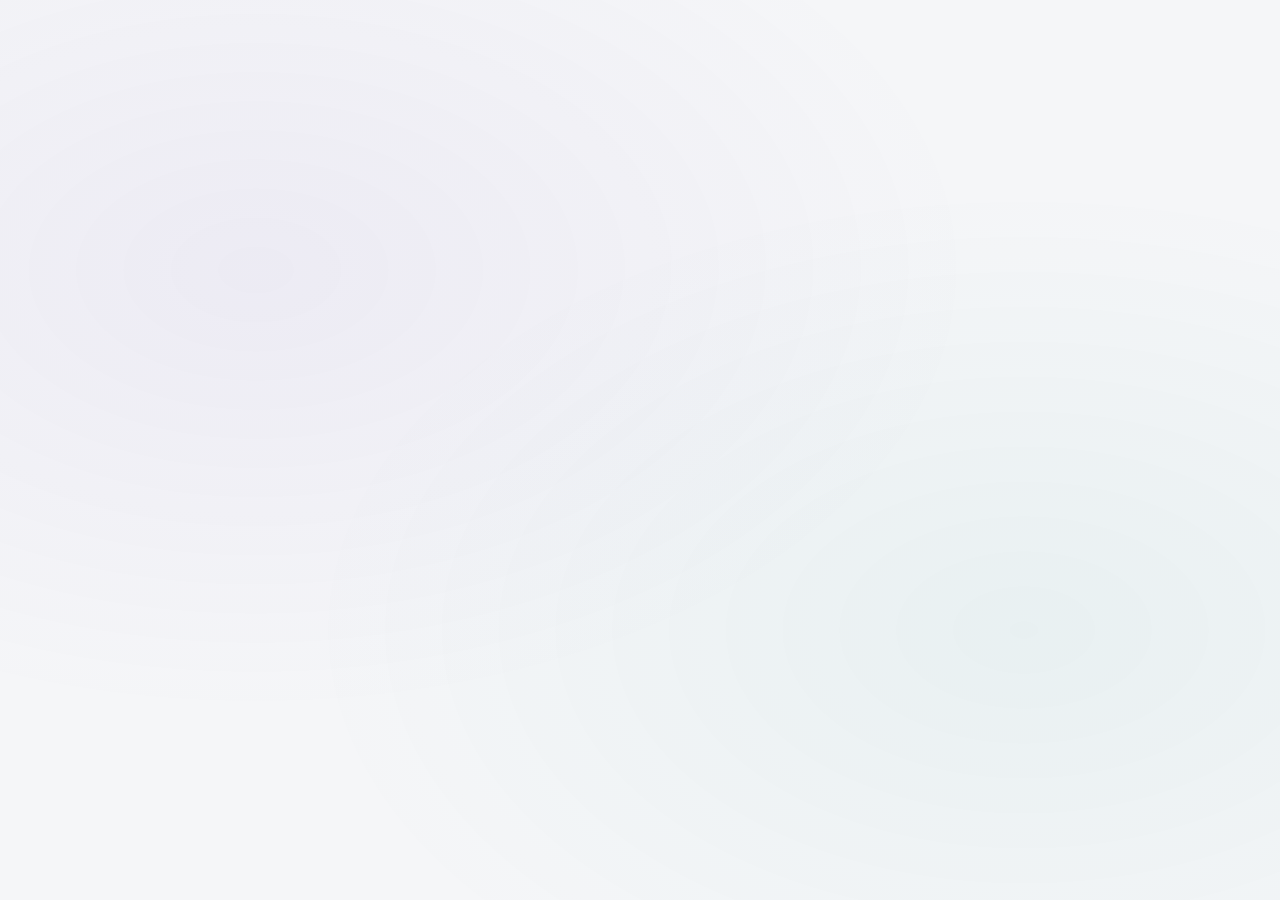
Test: CommandPalette › filters commands as you type
Press k
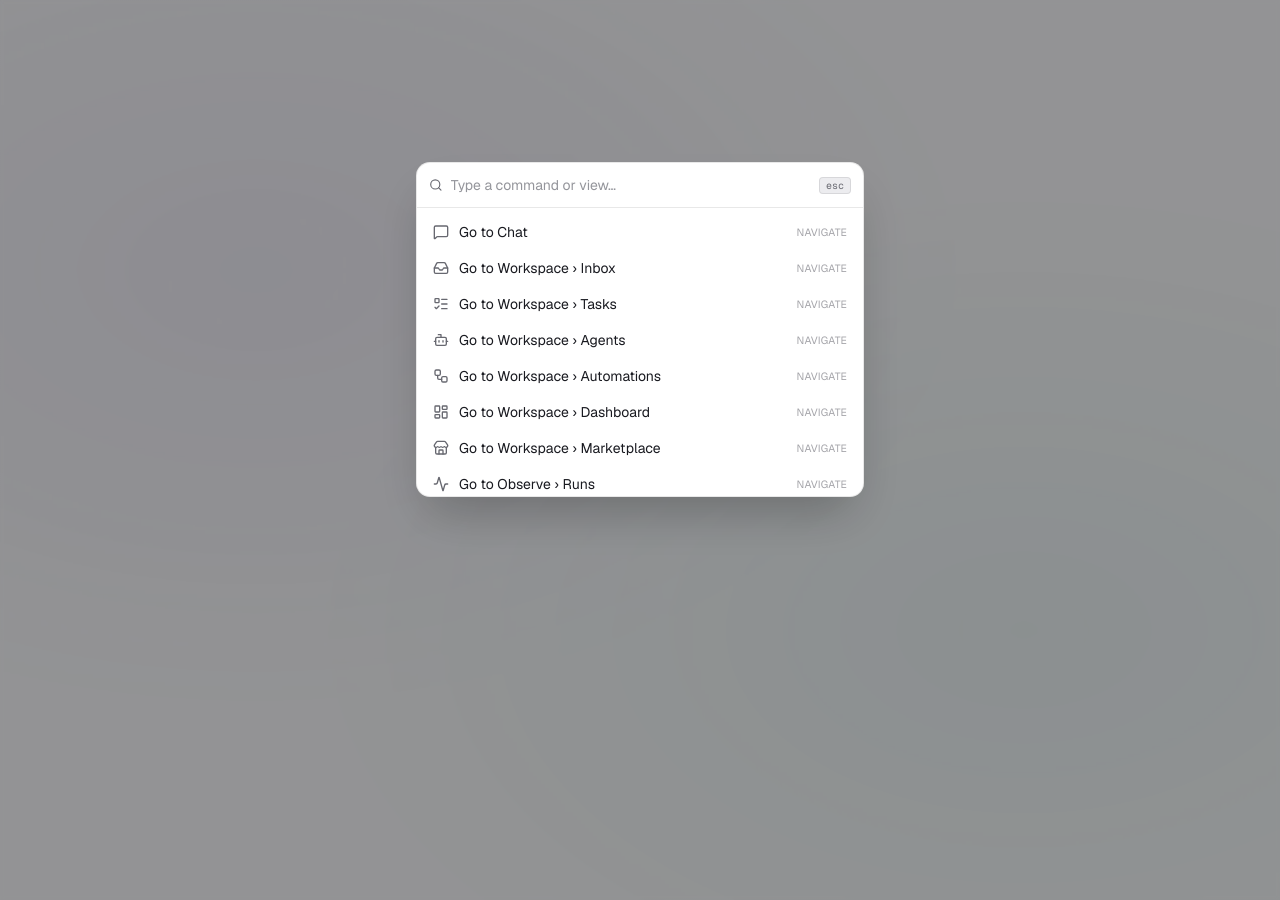
Type "flee" into the field with test id "command-input" at (631, 185), box top-left (451, 163), bottom-right (811, 207)
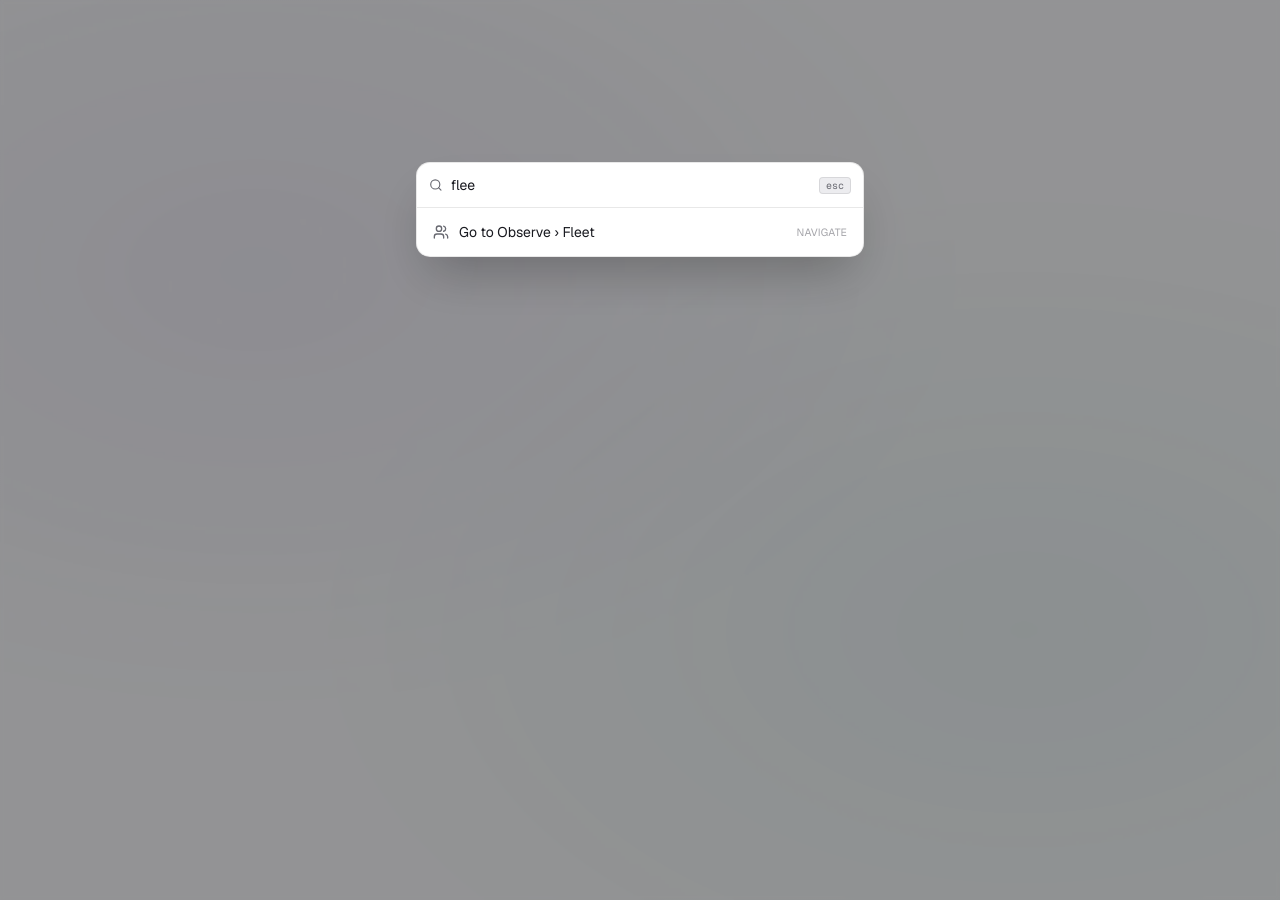
Check: the button with test id "command-item-fleet" is shown, box top-left (423, 214), bottom-right (857, 250)
Check: the button with test id "command-item-tasks" is gone
